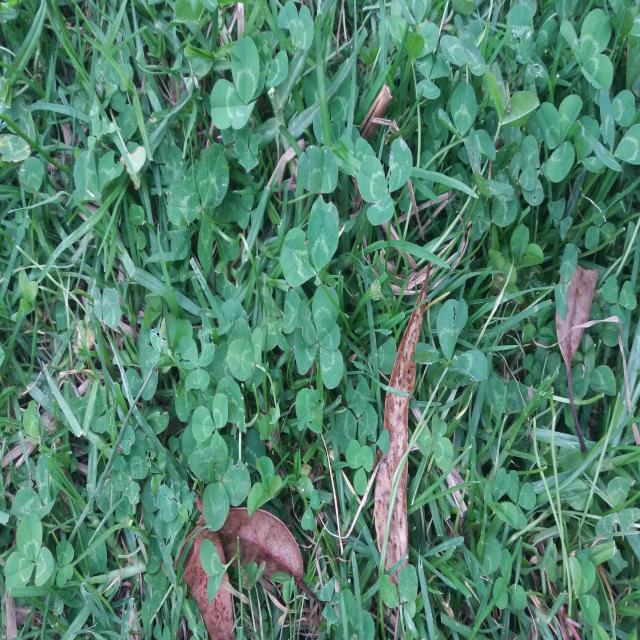Four Leaf Clover: (294, 284, 343, 389)
